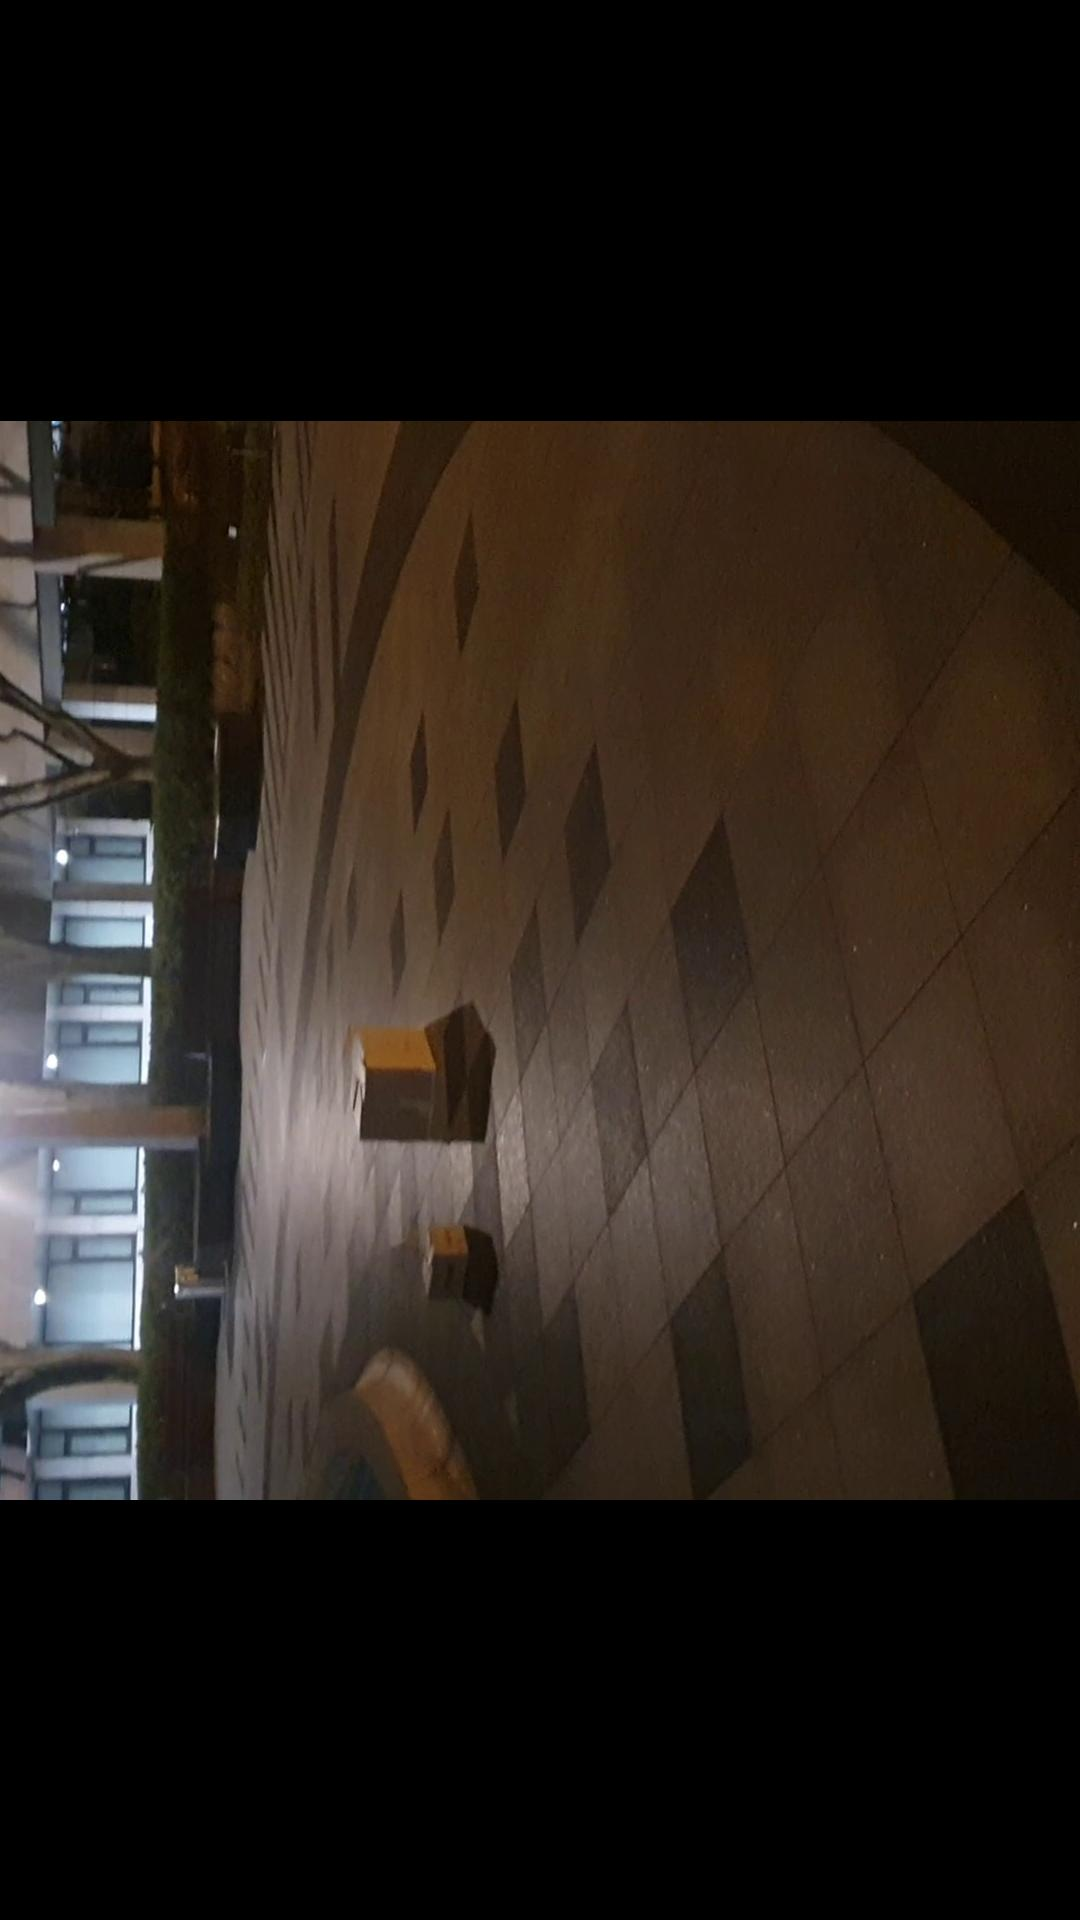Box: (340, 1010, 452, 1153), (410, 1232, 472, 1299)
